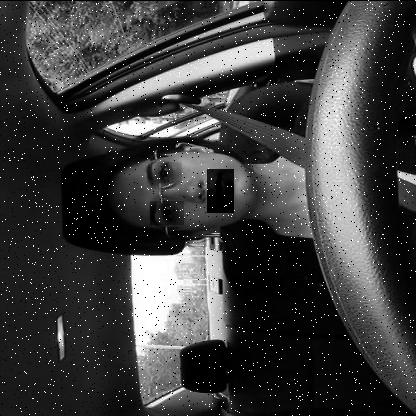seatbelt: (79, 116, 416, 256)
